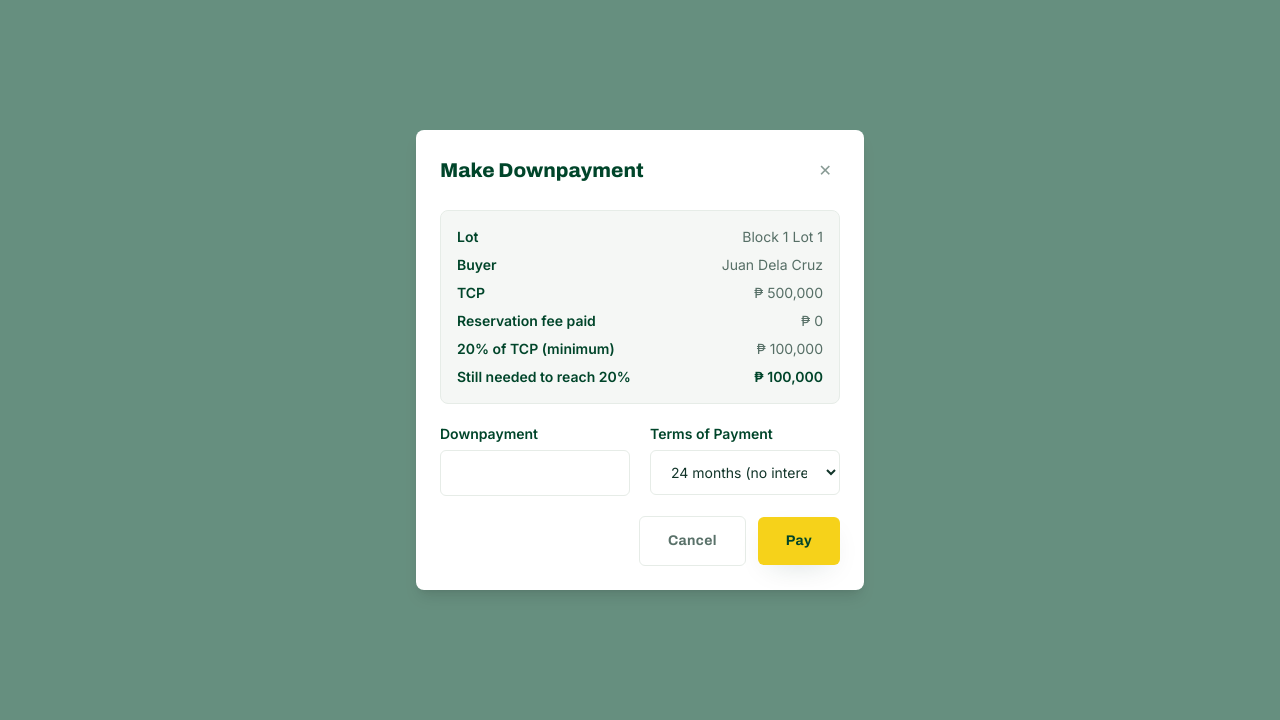
DownpaymentModal › rejects a downpayment greater than the TCP
The image size is (1280, 720).
Step 1. Type "600000" into the number field labelled "Downpayment" → x=535, y=473, box [440,450,630,496]
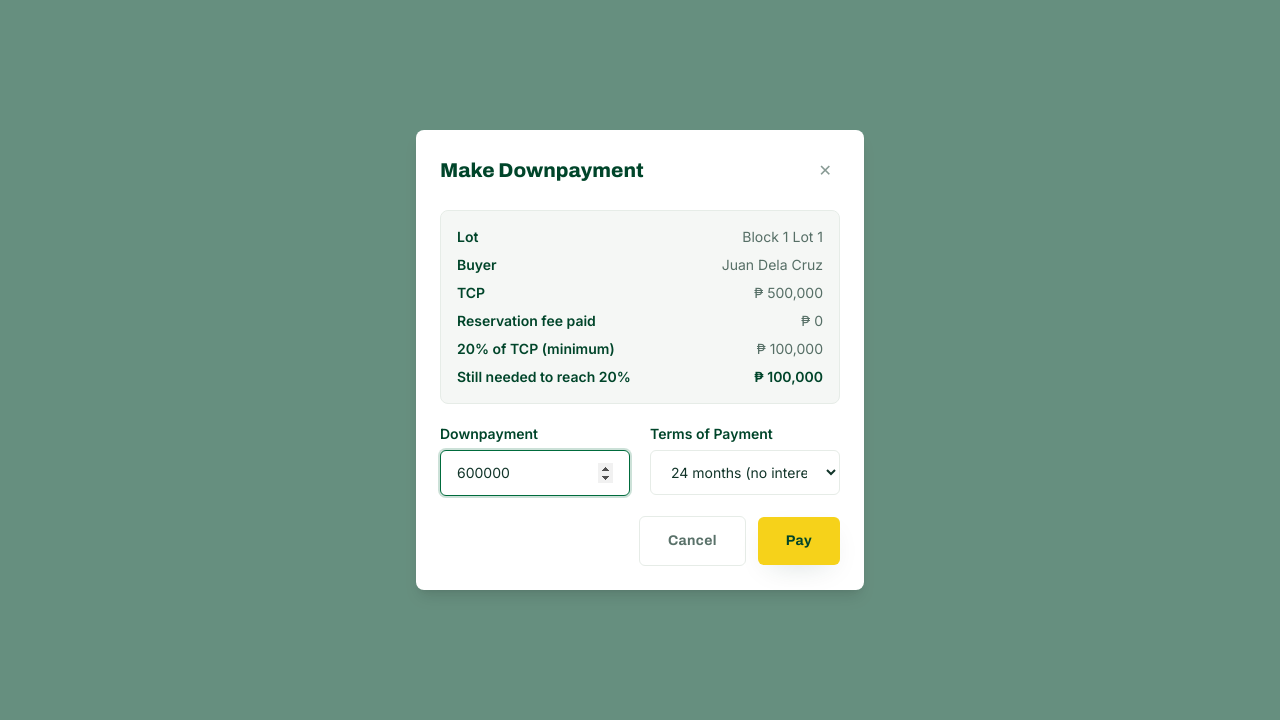
Step 2. Click the button "Pay" → x=799, y=541, box [758,517,840,565]
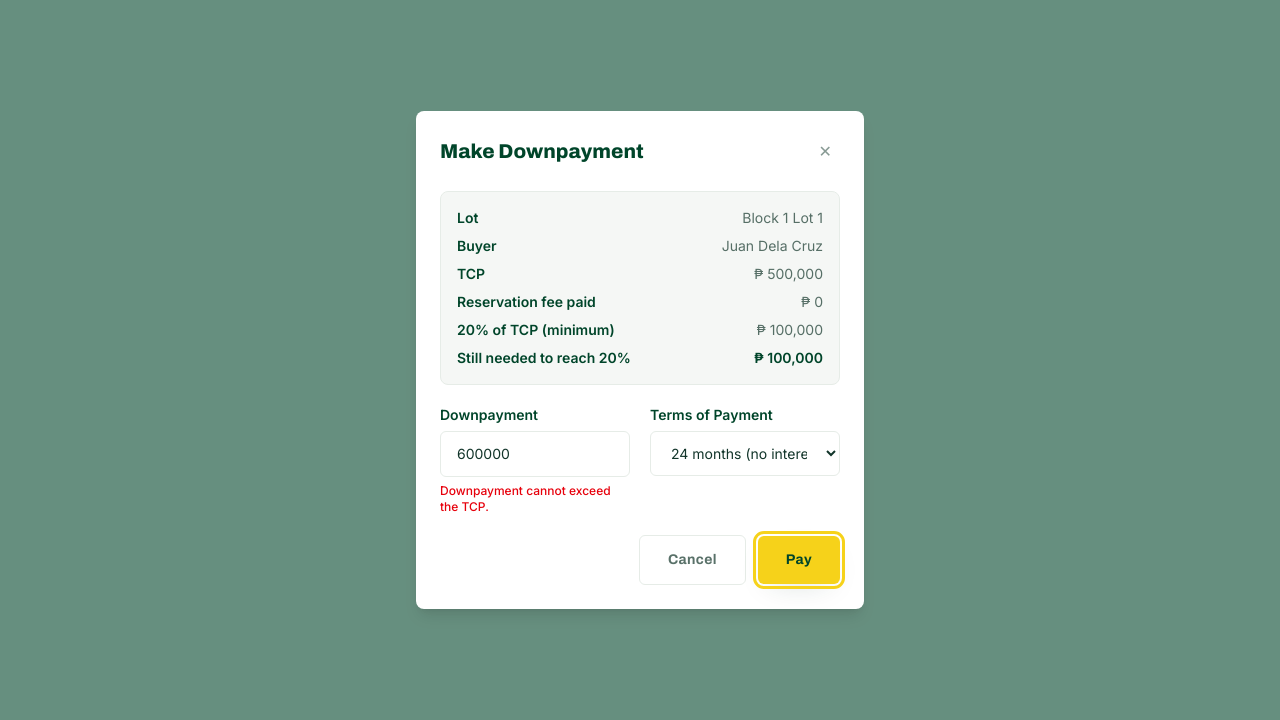
Result: the text "Downpayment cannot exceed the TCP." is shown at [440,483,630,515]
